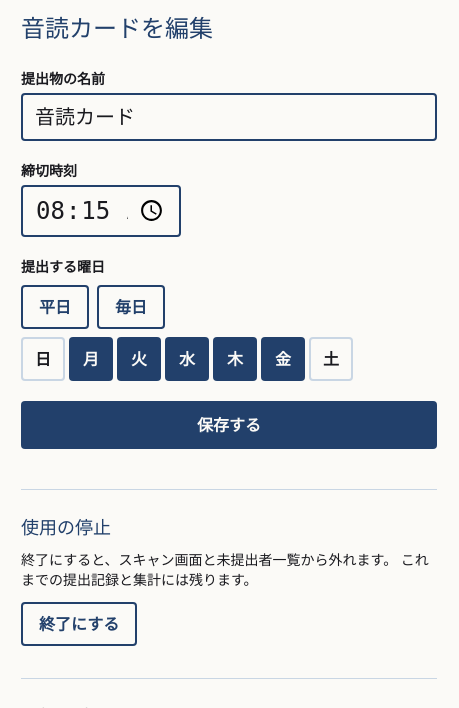
Scenario: 保存 › 他と名前が重なれば拒否する
Replace the text in the field labelled "提出物の名前" with "計算ドリル" at (229,117), box 21,93 -> 437,141
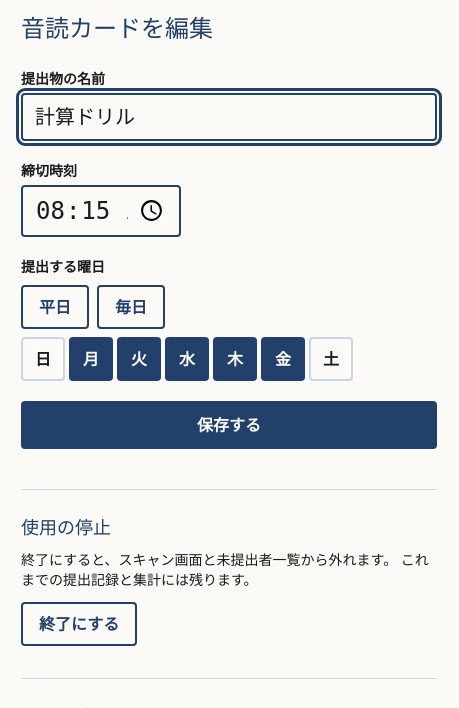
Click the button "保存する".
click(229, 425)  # box 21,401 -> 437,449
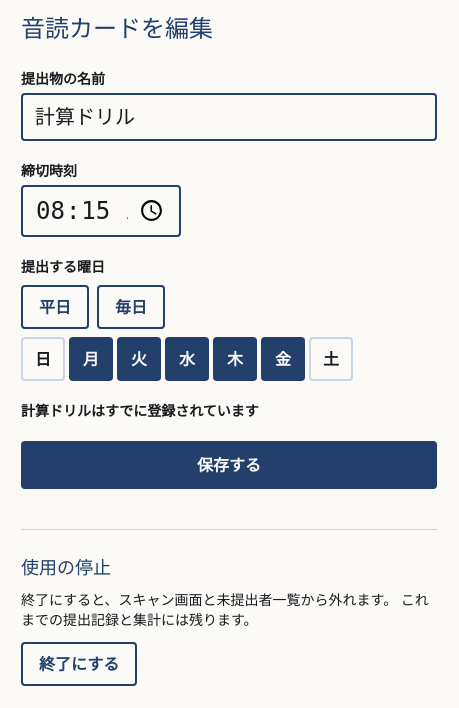
Result: the text "計算ドリルはすでに登録されています" is shown at 21,401 -> 259,420
